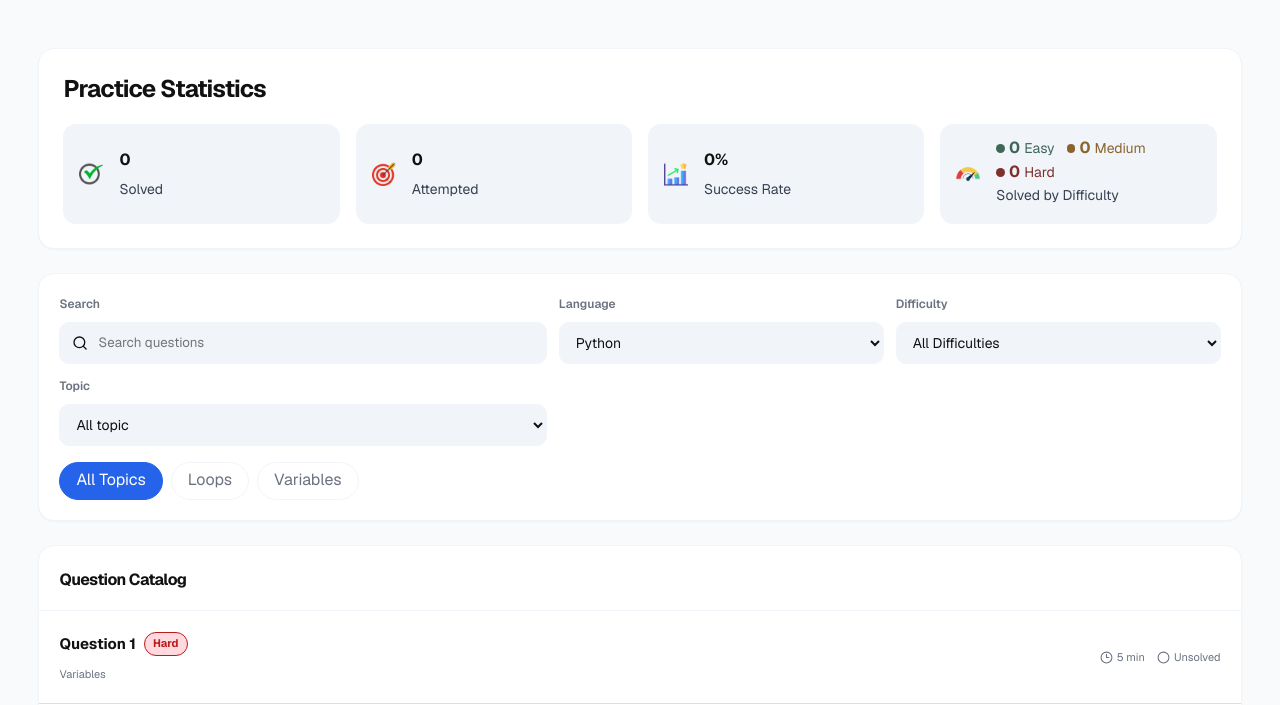
Test case: Practice cursor pagination › filters through exactly nine canonical languages without falling back to Python questions
The image size is (1280, 705).
Check: the text "Question 1" is shown, box 59,631 -> 136,657
Select "Java" in the dropdown labelled "Language" at (721, 343), box 559,322 -> 884,364
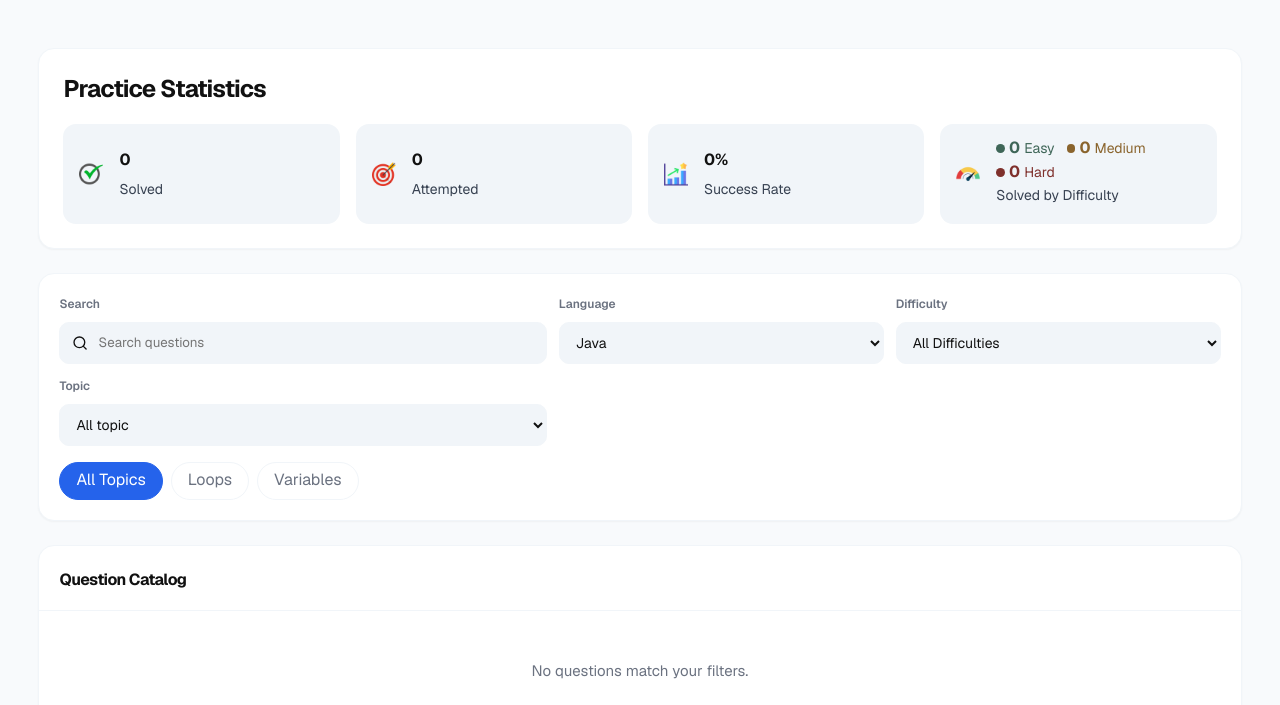
Check: the text "No questions match your filters." is shown, box 532,661 -> 748,680
Check: the button "Question 1" is gone
